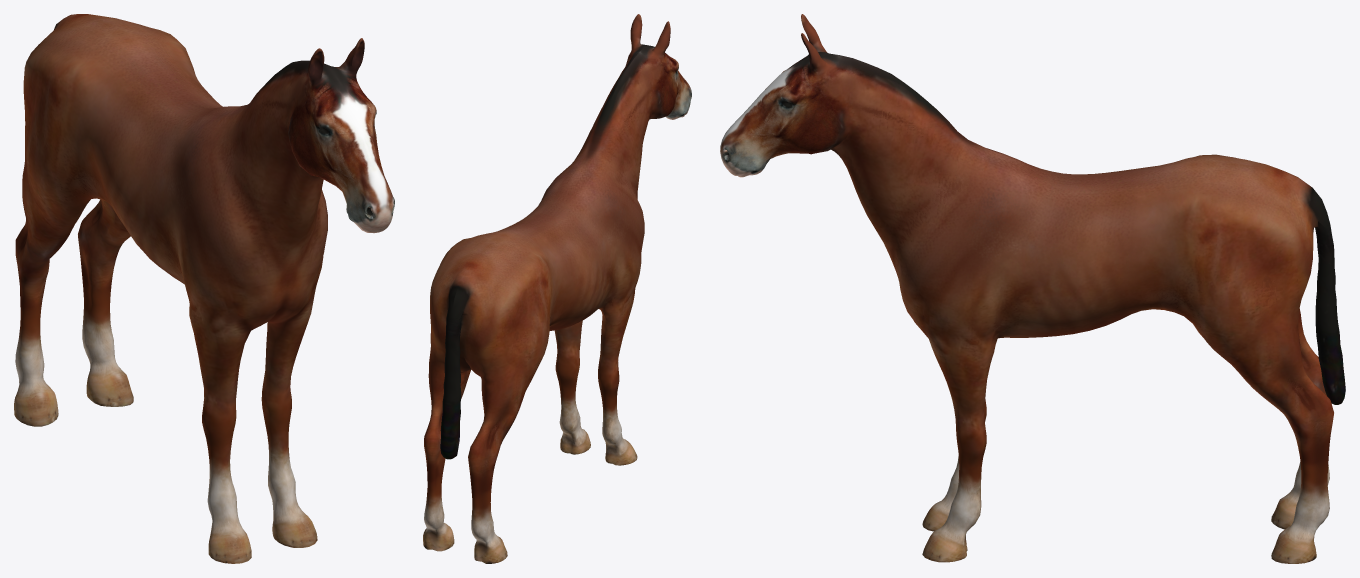
3 renders of one model, left to right at view 1: azimuth 30°, elevation 25°; view 2: azimuth 150°, elevation 25°; view 3: azimuth 270°, elevation 25°, orthographic. The views are drawn at different scales.
Visible parts, largest first — view 1: Object_2; view 2: Object_2; view 3: Object_2.
Boxes of the visible parts, x1=… form: Object_2: x1=14, y1=14, x2=394, y2=563; Object_2: x1=423, y1=14, x2=691, y2=563; Object_2: x1=720, y1=14, x2=1345, y2=563.
Size of the model in its own units: 6.81 by 24.53 by 26.95.
1 material, 1 textured.
